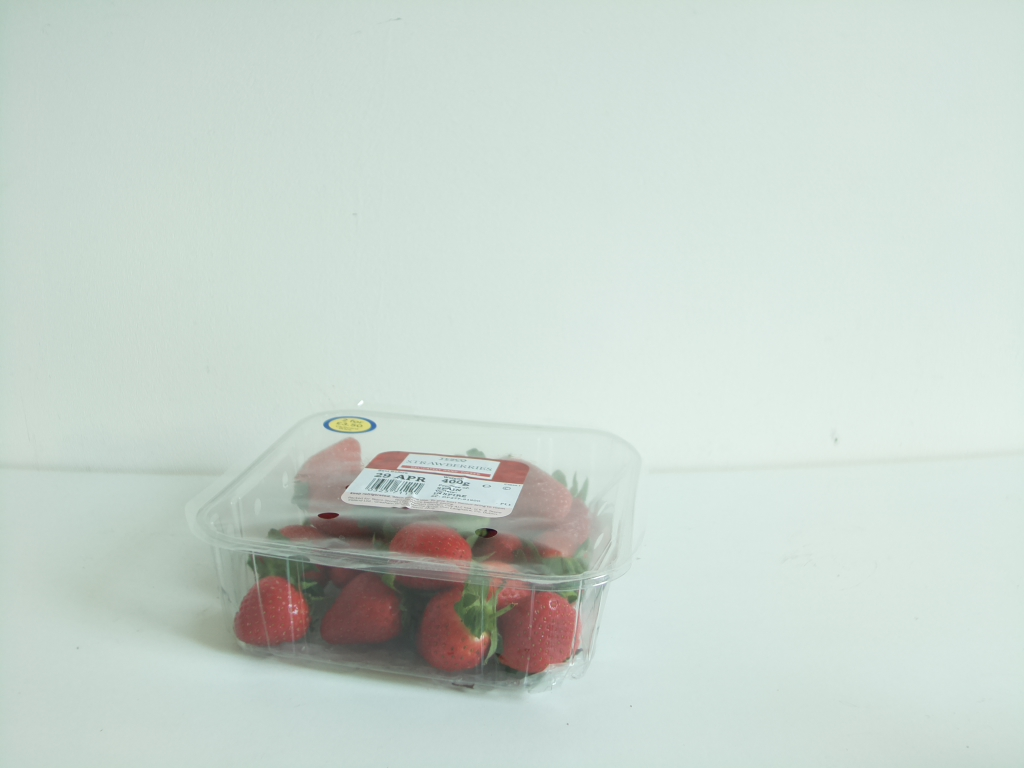soft-fruit: (194, 398, 649, 698)
